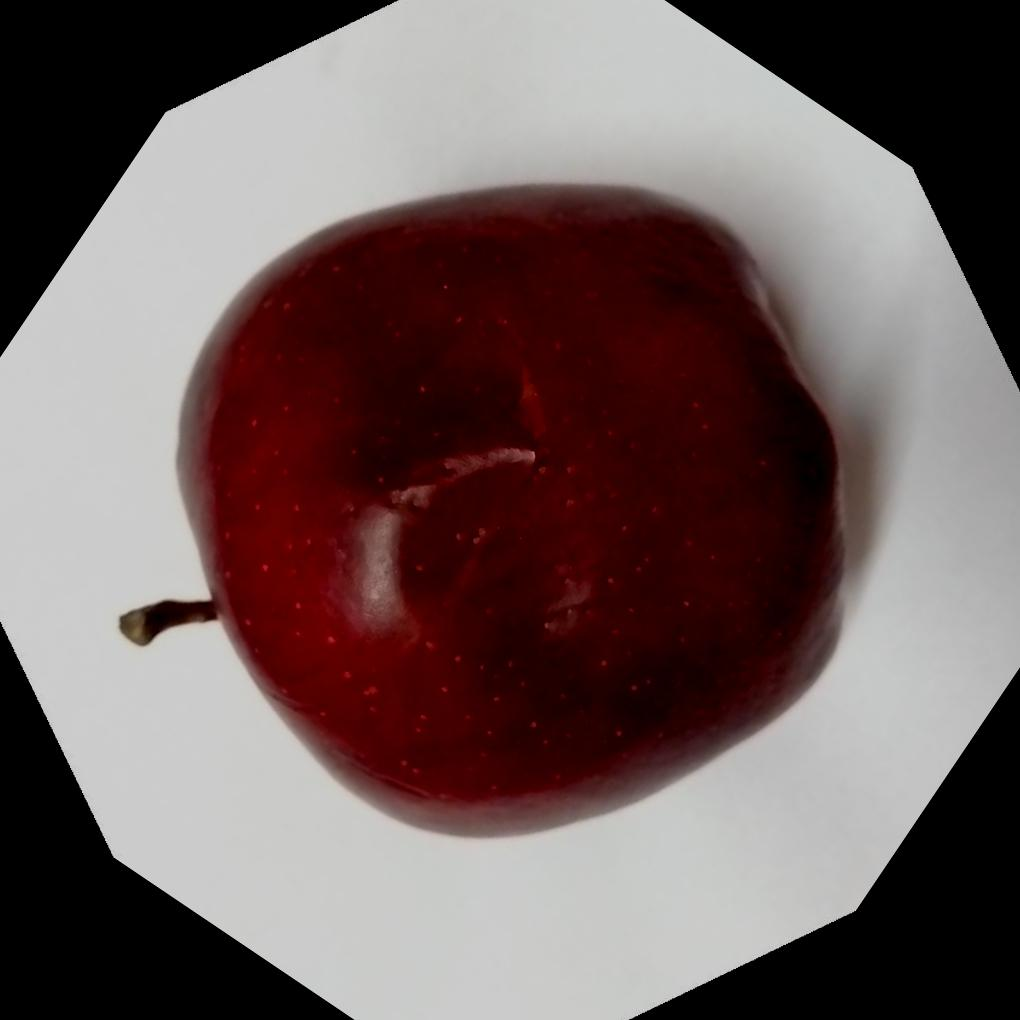FreshOrange: (175, 178, 853, 838)
